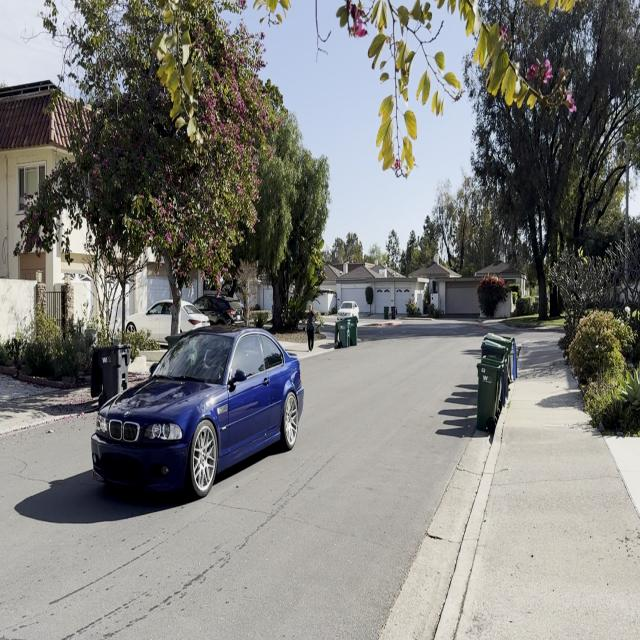Carbeetle: (85, 321, 311, 513)
